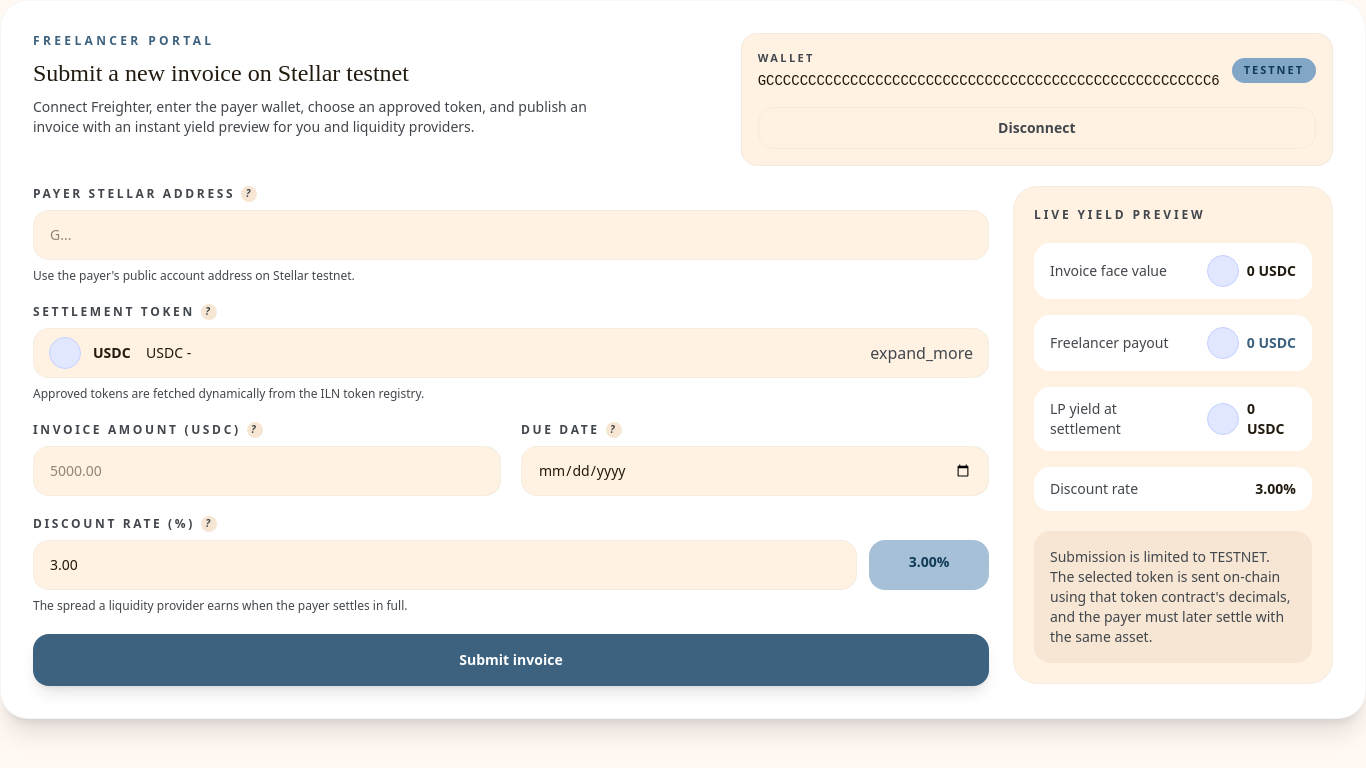
Test: SubmitInvoiceForm › rejects an empty payer address
Amount and dueDate are also empty so multiple errors fire – we only care about payer
Click the button "Submit invoice". click: (511, 660)
box: [33, 634, 989, 686]
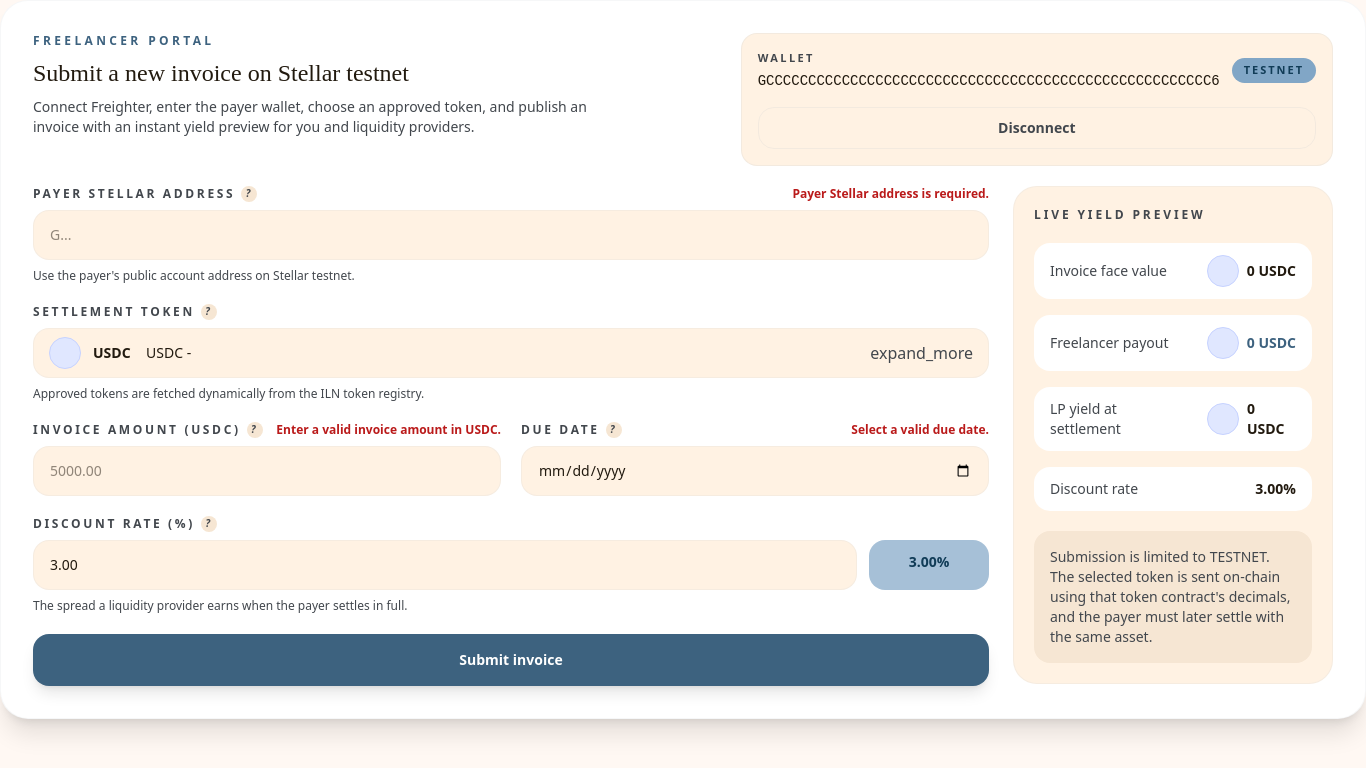
Expected: the text "Payer Stellar address is required." is shown, [792, 186, 989, 202]
